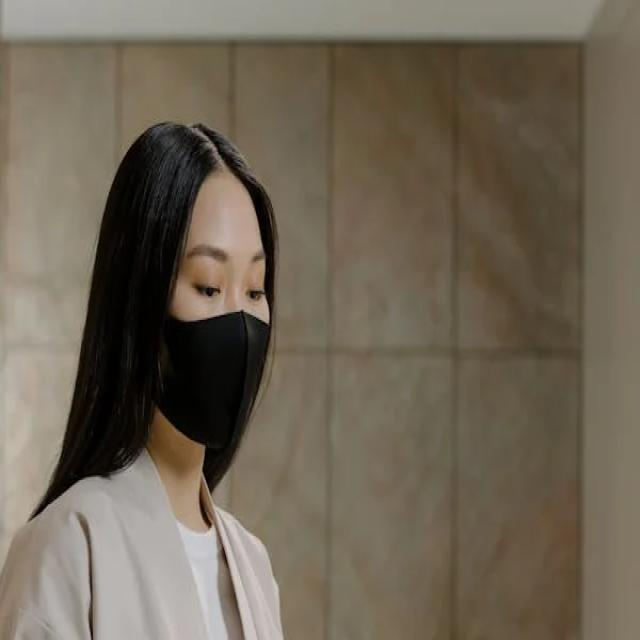mask: (112, 117, 286, 460)
